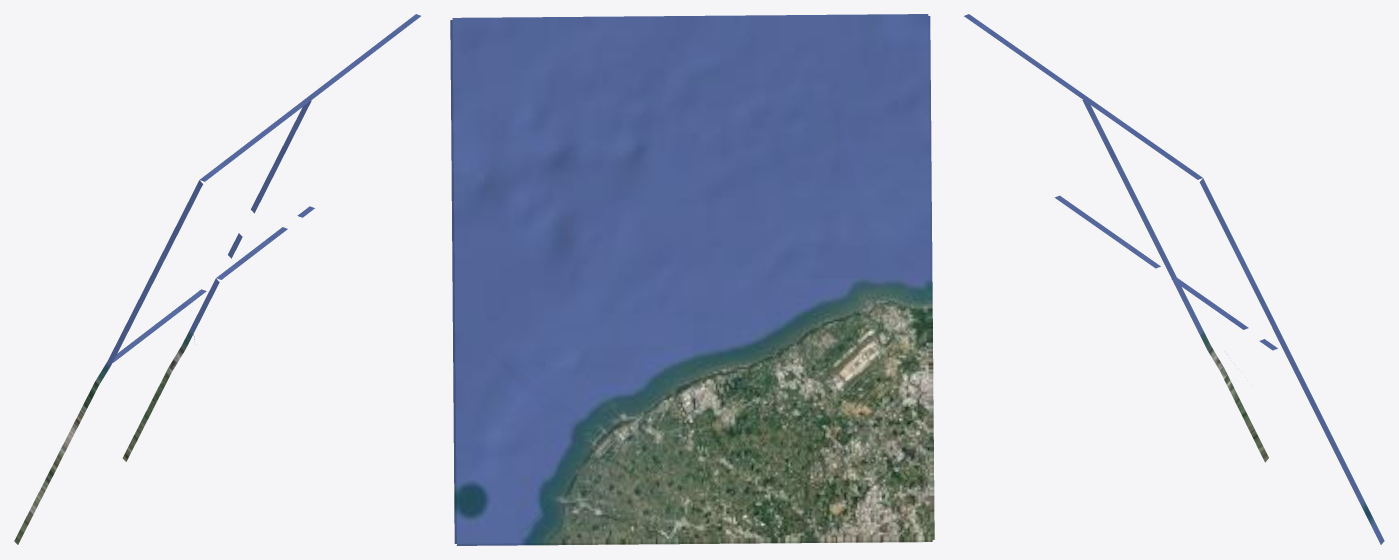
The picture shows the model from 3 angles, left to right: view 1: azimuth 30°, elevation 25°; view 2: azimuth 150°, elevation 25°; view 3: azimuth 270°, elevation 25°; orthographic projection. The views are drawn at different scales.
Bounding box in the file's own units: 39508 × 35823 × 33094.
Materials: 1 (1 with a texture image).
